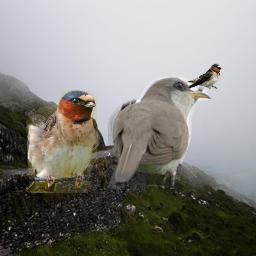Cuckoo: (107, 76, 211, 189)
Swallow: (25, 90, 101, 193), (187, 63, 223, 89)
